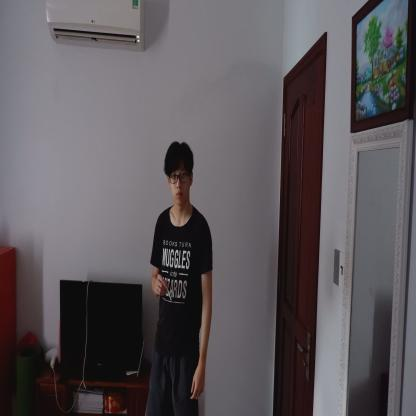cigarette: (167, 288, 172, 301)
person: (146, 140, 214, 415)
